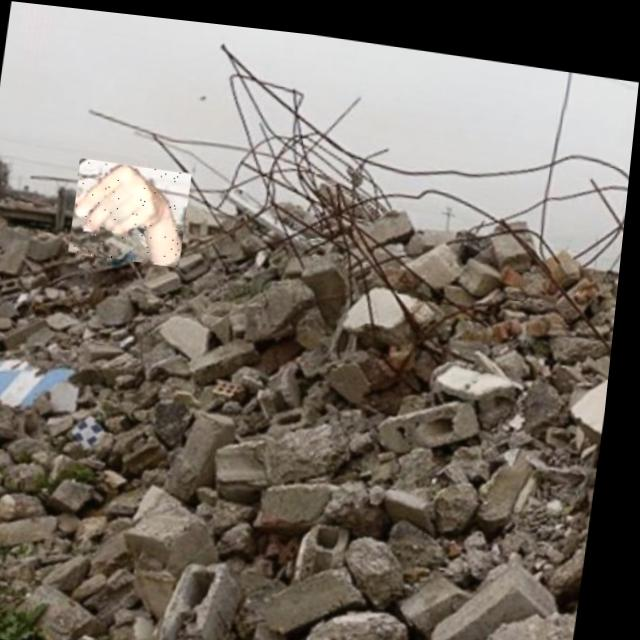Person in Rubble: (73, 155, 195, 263)
